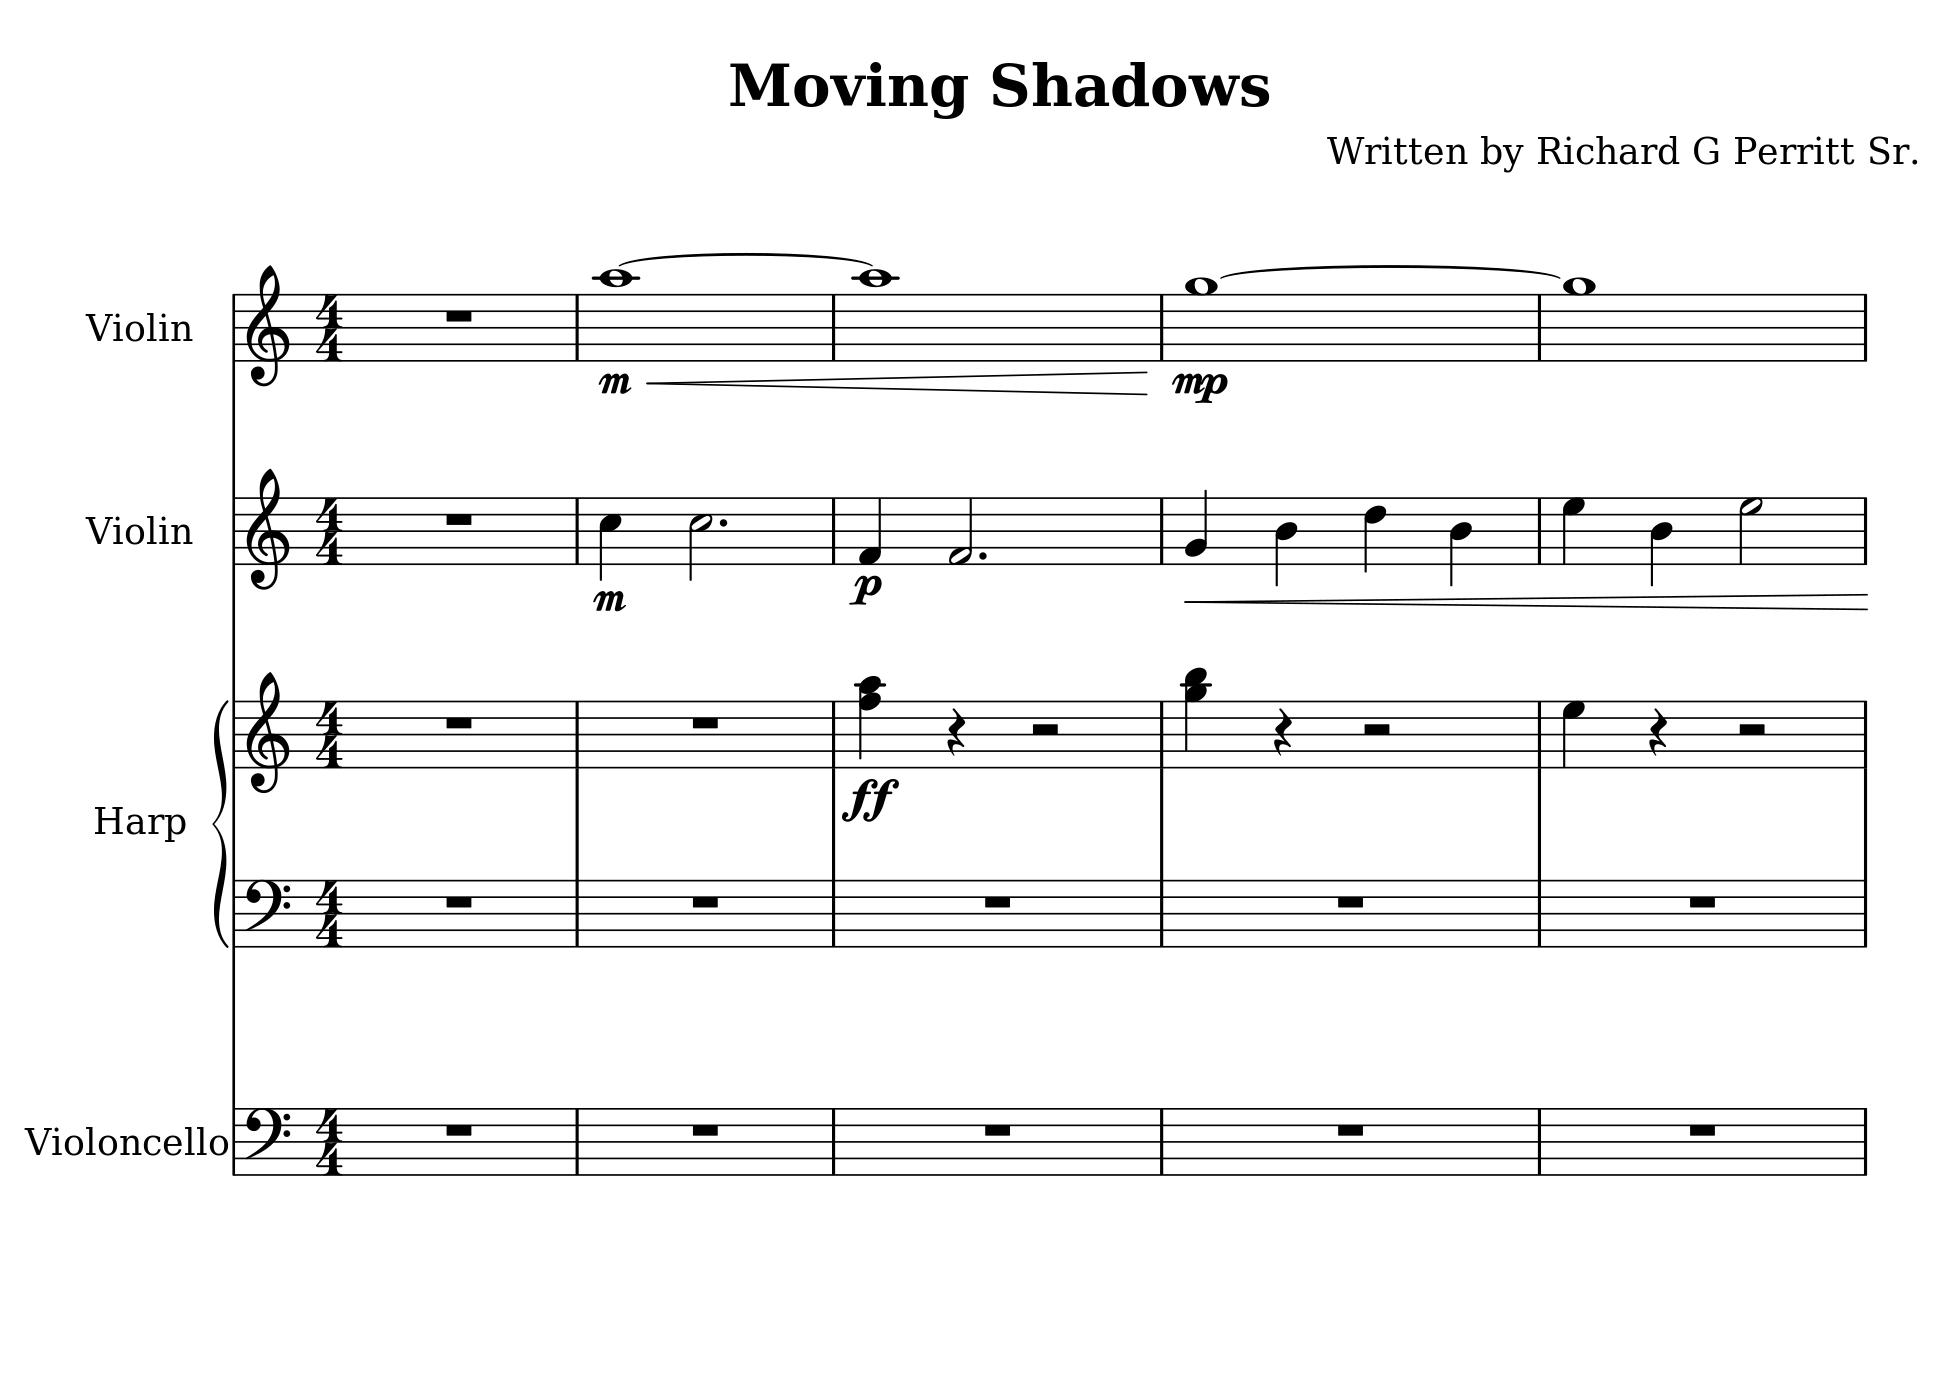1_10: (855, 267, 895, 363), (597, 268, 634, 363), (1560, 274, 1596, 363)
1_9: (1183, 274, 1221, 360)
2_1: (946, 496, 975, 567)
2_5: (687, 496, 715, 583)
2_7: (1738, 495, 1764, 565)
4: (313, 495, 346, 531), (313, 327, 346, 361), (313, 529, 346, 564), (313, 292, 345, 328), (313, 697, 345, 733), (313, 877, 345, 913), (313, 1105, 345, 1141), (313, 733, 345, 768), (313, 912, 345, 946), (313, 1140, 345, 1174)
4_1: (856, 495, 883, 565)
4_2: (1185, 487, 1210, 567)
4_4: (1272, 495, 1299, 586), (1447, 495, 1474, 586), (1648, 495, 1674, 585)
4_5: (597, 493, 622, 583)
4_6: (1362, 493, 1389, 576)
4_7: (1560, 697, 1587, 769), (1560, 495, 1587, 565)
4_8_10: (852, 672, 888, 769)
4_9_11: (1180, 664, 1213, 772)
Brace: (211, 694, 229, 948)
Crescendo_hairpin: (1180, 591, 1864, 613), (643, 370, 1149, 397)
Fclef: (241, 1105, 292, 1176), (243, 876, 292, 948)
Gclef: (243, 466, 292, 591), (244, 670, 292, 793), (244, 262, 291, 388)
Hrp: (91, 799, 192, 847)
Rests1: (441, 304, 477, 324), (441, 891, 475, 910), (1333, 891, 1368, 910), (441, 1119, 475, 1138), (981, 1119, 1015, 1138), (1333, 1119, 1368, 1138), (1686, 1119, 1720, 1138), (441, 508, 477, 526), (441, 712, 477, 730), (1686, 891, 1719, 910), (688, 712, 723, 730), (981, 892, 1015, 910), (688, 1120, 723, 1138), (688, 892, 723, 909)
Rests2: (1026, 720, 1063, 741), (1359, 720, 1395, 739), (1734, 721, 1770, 741)
Rests4: (943, 705, 967, 759), (1647, 706, 1671, 759), (1272, 706, 1294, 759)
Single_barline: (825, 700, 843, 768), (823, 879, 841, 946), (1530, 294, 1548, 360), (1531, 700, 1549, 766), (1153, 292, 1170, 361), (1857, 496, 1873, 564), (568, 879, 585, 946), (825, 1107, 841, 1174), (1153, 1107, 1170, 1174), (1857, 1107, 1873, 1174), (825, 294, 841, 360), (1857, 294, 1873, 360), (1531, 496, 1548, 562), (1857, 700, 1873, 766), (568, 700, 585, 766), (1153, 700, 1170, 766), (1153, 880, 1170, 946), (1531, 880, 1548, 946), (1857, 880, 1873, 946), (568, 1108, 585, 1174), (1531, 1108, 1548, 1174), (568, 294, 585, 358), (568, 498, 585, 562), (226, 292, 241, 361), (226, 496, 241, 564), (826, 496, 841, 562), (1155, 496, 1170, 562), (228, 1107, 241, 1176), (228, 700, 241, 768), (229, 879, 241, 946)
Slur: (1216, 262, 1557, 283), (612, 252, 873, 271)
TimeSig: (313, 495, 349, 565), (313, 699, 349, 769), (313, 292, 349, 361), (313, 879, 348, 946), (313, 1107, 346, 1174)
Vln: (85, 303, 196, 346), (81, 508, 195, 550)
dot: (715, 514, 729, 529), (976, 547, 990, 562)
ff: (840, 777, 900, 823)
m: (589, 586, 628, 616), (595, 370, 631, 396)
mp: (1170, 367, 1228, 405)
p: (847, 573, 883, 607)
